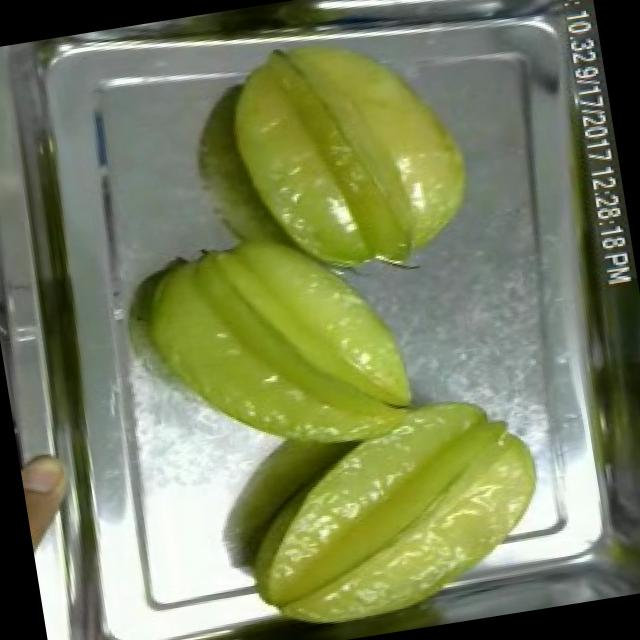fruit: (115, 204, 429, 496), (216, 382, 565, 640), (205, 10, 494, 304), (16, 442, 88, 592)
